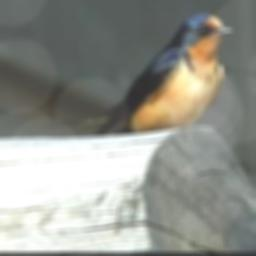Swallow: (43, 12, 235, 135)
